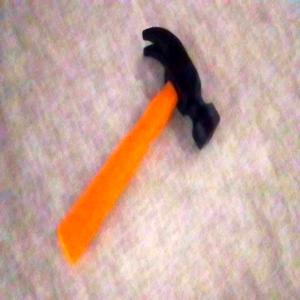martelo: (56, 26, 221, 265)
